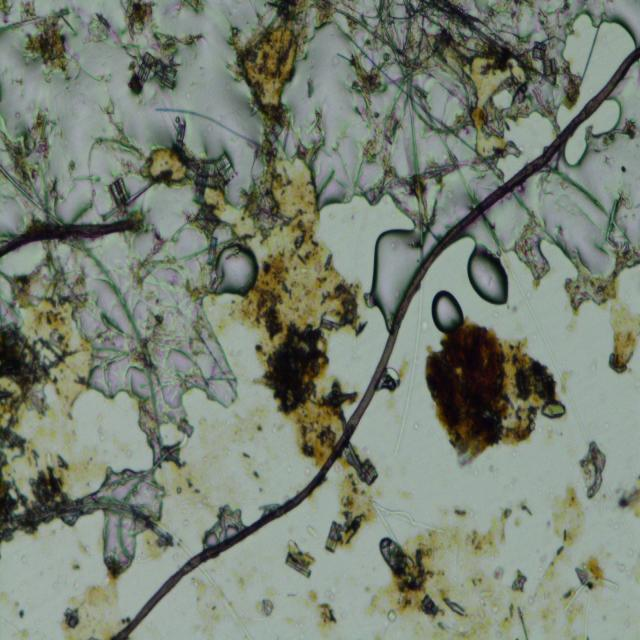Air bubble: (92, 455, 172, 579), (560, 7, 638, 72), (365, 224, 413, 325), (561, 98, 627, 170), (461, 240, 510, 308), (212, 241, 261, 302), (428, 288, 464, 333), (574, 556, 606, 581)
Background material: (236, 123, 356, 459), (64, 236, 235, 416), (356, 0, 549, 141), (423, 320, 561, 463), (0, 263, 88, 463), (226, 0, 344, 123), (78, 97, 197, 211), (0, 0, 114, 86), (364, 530, 450, 630), (0, 458, 96, 546), (132, 414, 212, 509), (0, 105, 62, 199), (116, 0, 206, 64), (382, 166, 440, 245), (468, 93, 520, 173), (58, 578, 126, 639), (498, 61, 558, 129), (335, 441, 376, 540), (197, 566, 251, 640), (561, 268, 625, 329), (53, 411, 103, 487), (541, 166, 609, 215), (599, 299, 640, 375), (602, 195, 640, 276), (438, 516, 502, 564), (512, 221, 554, 291), (551, 482, 587, 563), (72, 1, 125, 55), (192, 578, 223, 640), (198, 506, 246, 546), (498, 498, 535, 546), (536, 0, 576, 43), (426, 615, 494, 640), (581, 440, 609, 500), (466, 568, 504, 612), (528, 559, 560, 605), (437, 584, 471, 620), (580, 27, 601, 83), (617, 470, 640, 520), (603, 116, 640, 146), (560, 62, 583, 110), (286, 538, 316, 566), (497, 598, 517, 640), (381, 366, 406, 398), (315, 600, 339, 633), (256, 587, 280, 618), (564, 600, 584, 636), (444, 504, 476, 526), (538, 602, 558, 633), (174, 0, 208, 18), (509, 568, 527, 596), (618, 560, 640, 582), (233, 569, 252, 594), (517, 604, 529, 640), (302, 588, 319, 610), (305, 524, 321, 541), (492, 563, 505, 582), (561, 588, 575, 605), (12, 599, 24, 618), (478, 597, 486, 620), (322, 588, 334, 602), (562, 368, 572, 382), (618, 164, 628, 174), (570, 633, 584, 640), (624, 620, 631, 628), (603, 615, 607, 621)
Diatom: (196, 204, 221, 234), (153, 62, 177, 89), (359, 456, 380, 486), (216, 153, 237, 182), (286, 556, 312, 579), (195, 160, 217, 187), (109, 179, 130, 207), (326, 519, 342, 554), (138, 52, 155, 81), (422, 595, 438, 616), (531, 41, 548, 60), (207, 235, 217, 267), (542, 56, 557, 77), (267, 124, 282, 143), (194, 185, 207, 204), (177, 122, 186, 143)
Glass filter fibre: (512, 272, 586, 440), (392, 286, 426, 458), (426, 102, 481, 207), (0, 165, 62, 222), (371, 497, 442, 543), (565, 577, 619, 611), (406, 95, 421, 176), (584, 594, 591, 640)
Microfibre: (116, 48, 640, 639), (0, 213, 142, 259)
